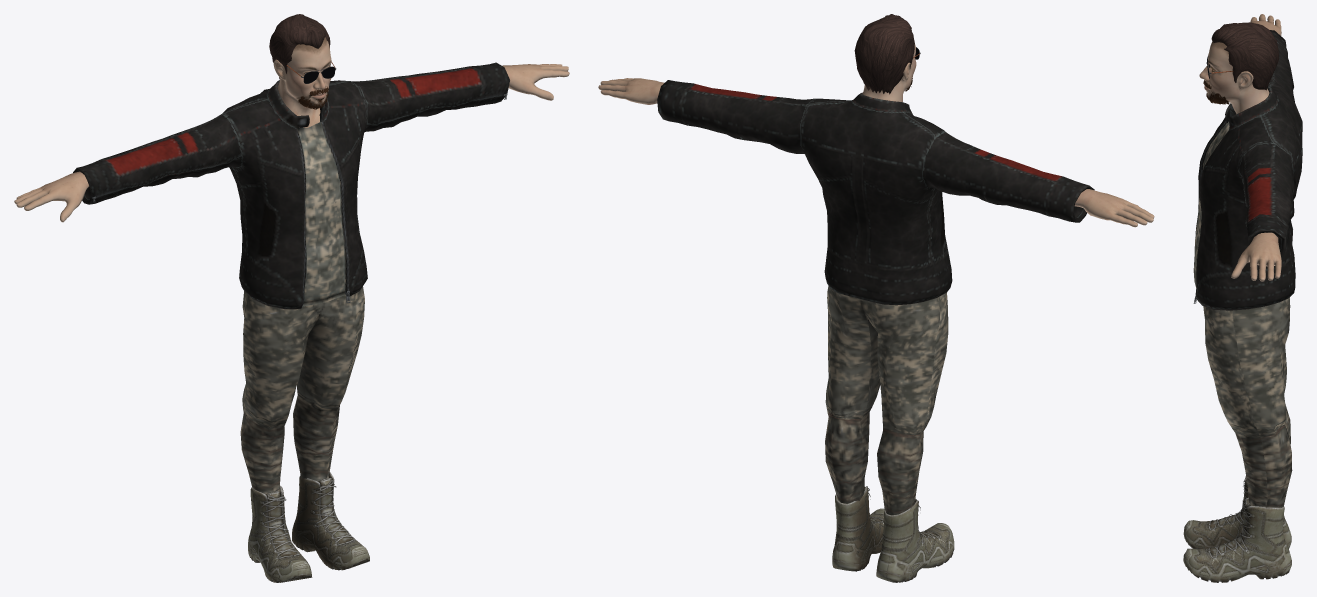
3 views of the same model, side by side, from view 1: azimuth 30°, elevation 25°; view 2: azimuth 150°, elevation 25°; view 3: azimuth 270°, elevation 25° (orthographic).
Visible parts, largest first — view 1: Tops, Bottoms, Shoes, Body, Hair; view 2: Tops, Bottoms, Shoes, Body, Hair; view 3: Tops, Bottoms, Shoes, Body, Hair, Beards.
Boxes of the visible parts, left/top/right/bottom form: Tops: left=73, top=62, right=509, bottom=309; Bottoms: left=240, top=286, right=364, bottom=493; Shoes: left=248, top=472, right=369, bottom=582; Body: left=14, top=37, right=569, bottom=222; Hair: left=269, top=14, right=330, bottom=79; Tops: left=657, top=80, right=1094, bottom=305; Bottoms: left=825, top=286, right=948, bottom=515; Shoes: left=832, top=486, right=954, bottom=582; Body: left=598, top=41, right=1154, bottom=227; Hair: left=854, top=14, right=914, bottom=94; Tops: left=1193, top=30, right=1302, bottom=310; Bottoms: left=1203, top=297, right=1292, bottom=507; Shoes: left=1183, top=476, right=1291, bottom=582; Body: left=1199, top=14, right=1281, bottom=281; Hair: left=1211, top=22, right=1278, bottom=90; Beards: left=1206, top=91, right=1229, bottom=104.
Bounding box in the file's own units: 194 × 182 × 36.66.
Materials: 1 (1 with a texture image).
